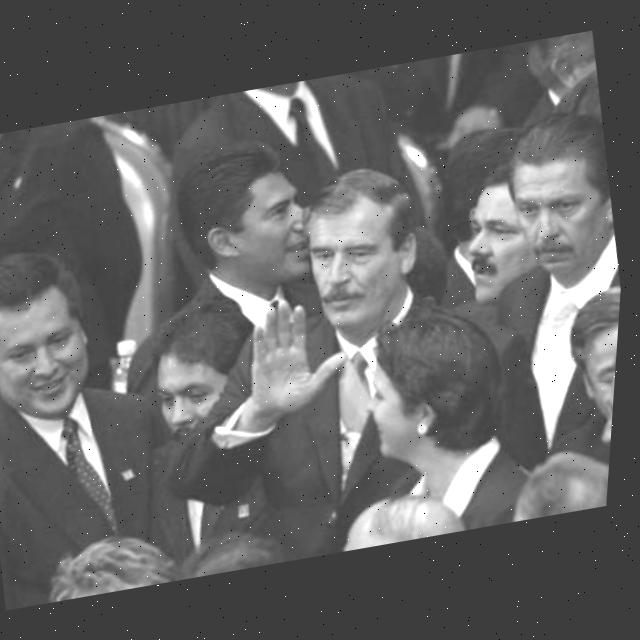face: (290, 164, 428, 339), (178, 136, 313, 299), (502, 106, 618, 285), (0, 251, 101, 437), (130, 316, 243, 447), (455, 168, 535, 313), (591, 359, 616, 491)
